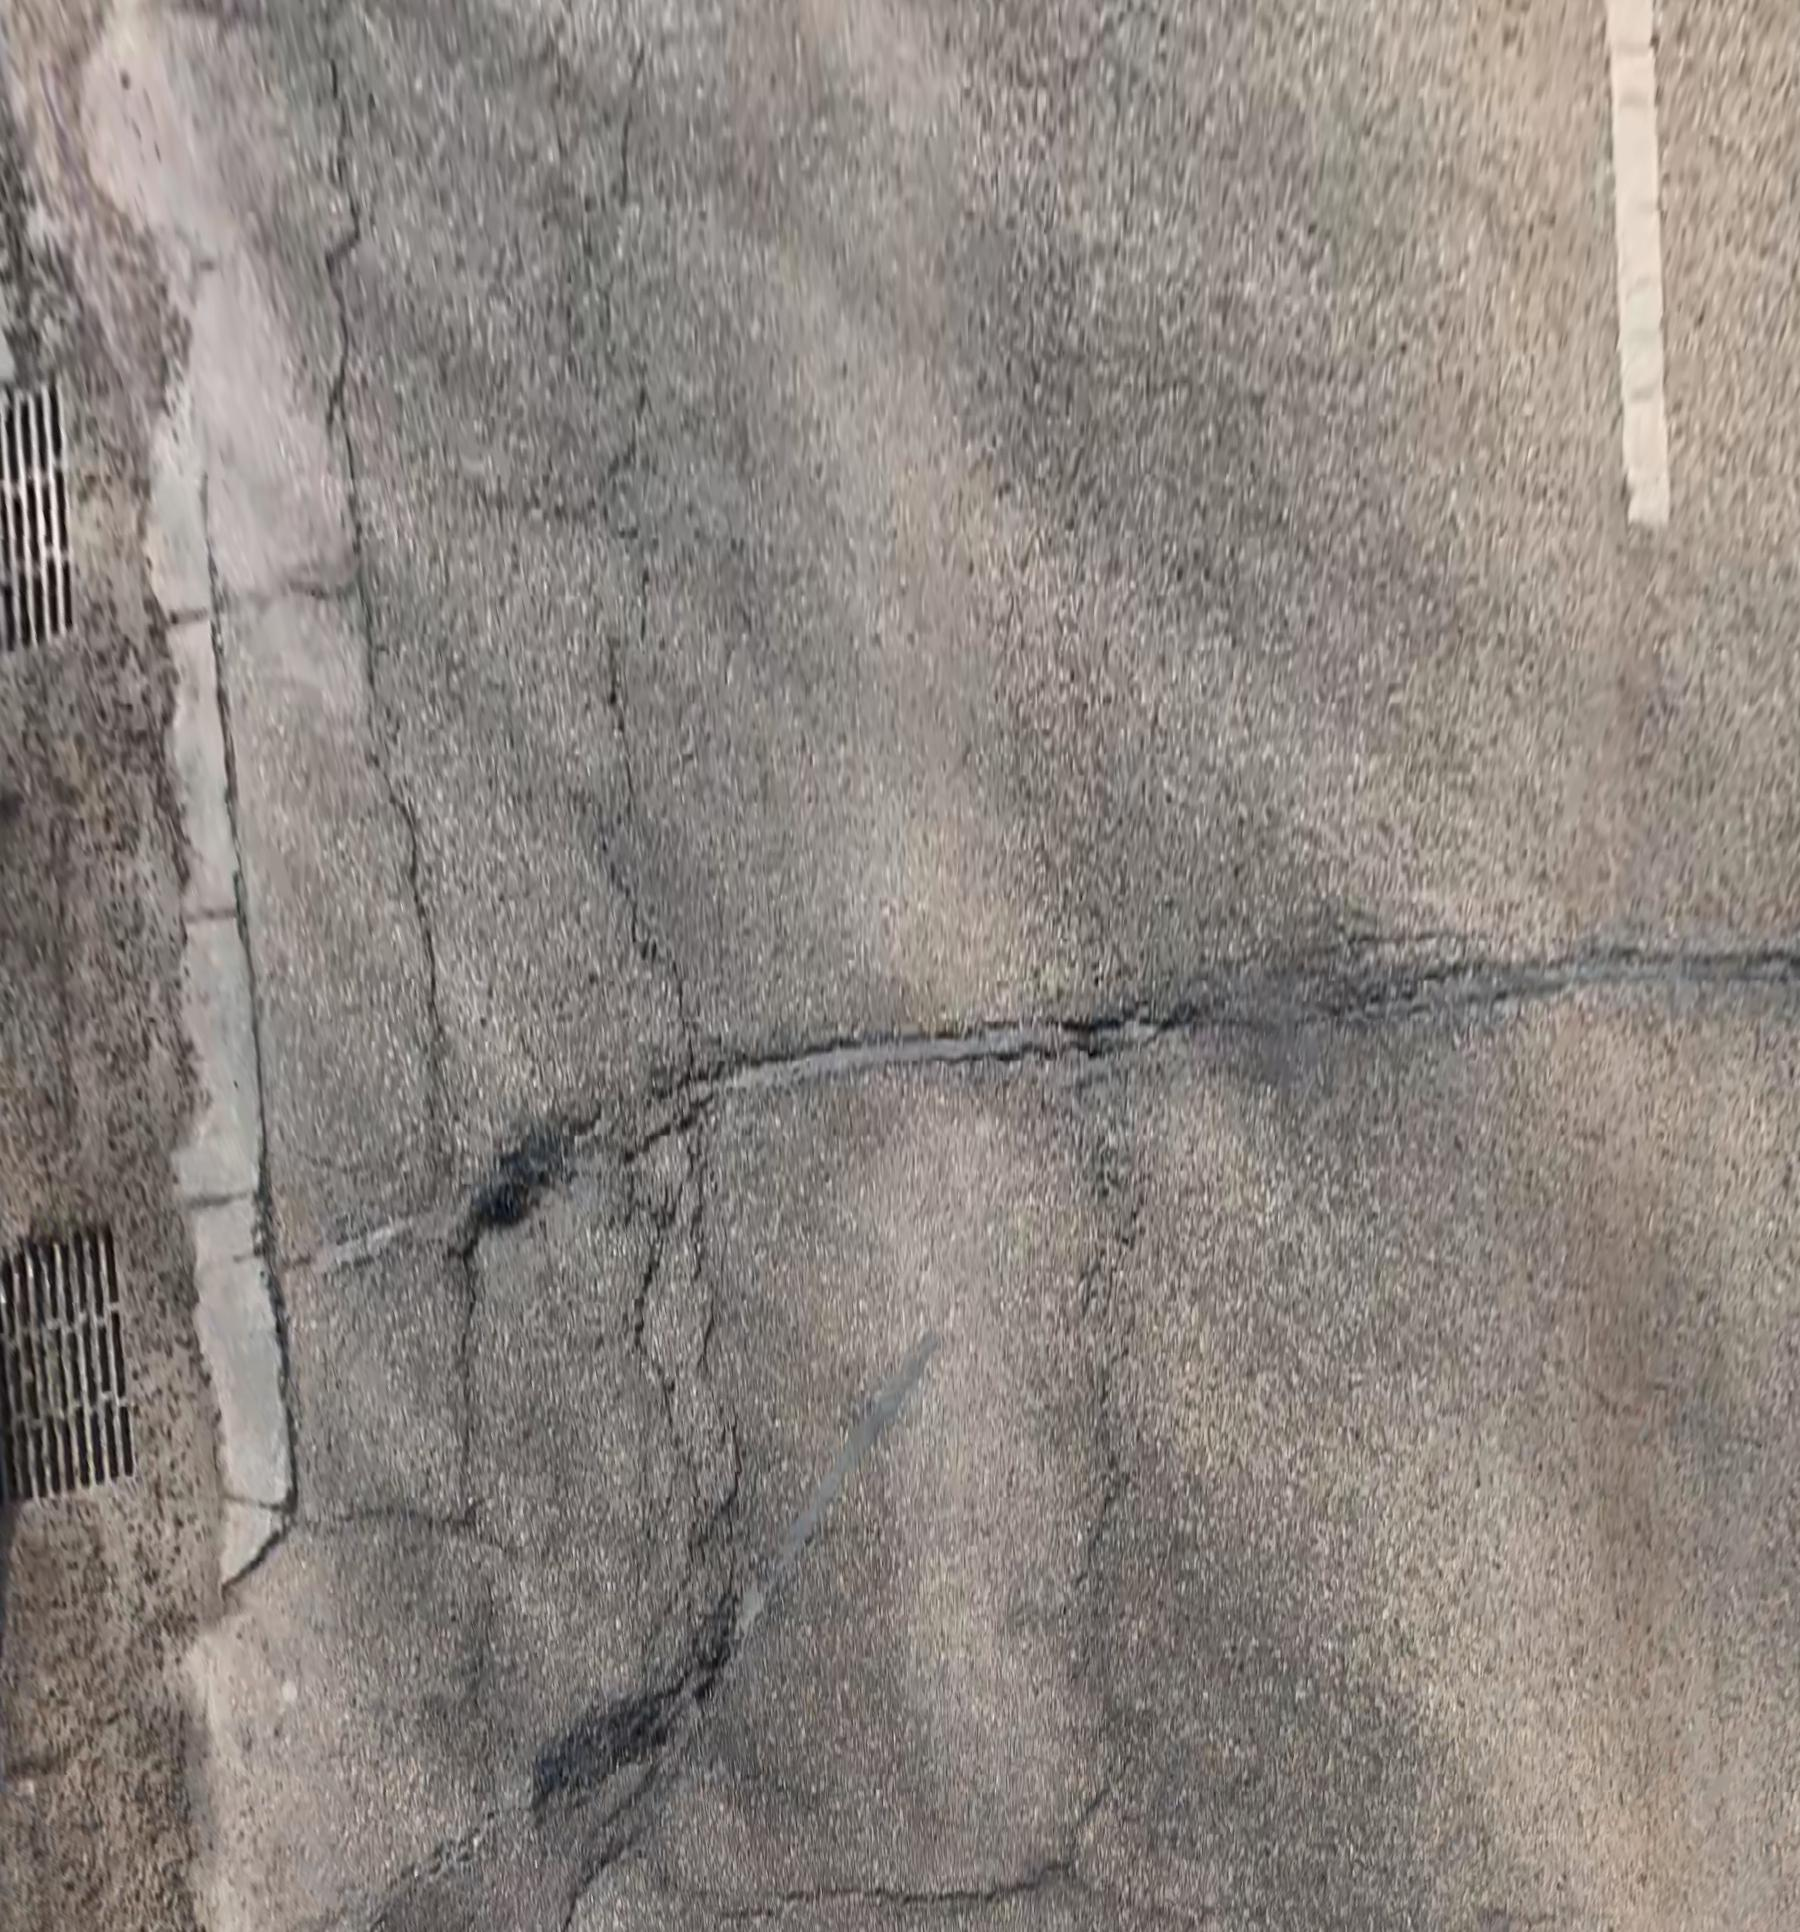pothole: (526, 1670, 697, 1809), (465, 1128, 573, 1252)
